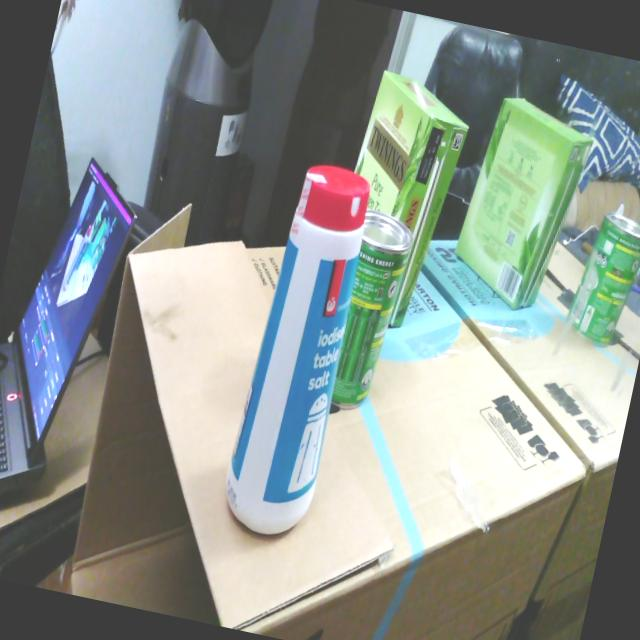nestle_milo_tin: (331, 209, 413, 408)
twinings_greentea_box: (354, 71, 468, 327)
woolworths_salt_bottle: (225, 165, 370, 533)
